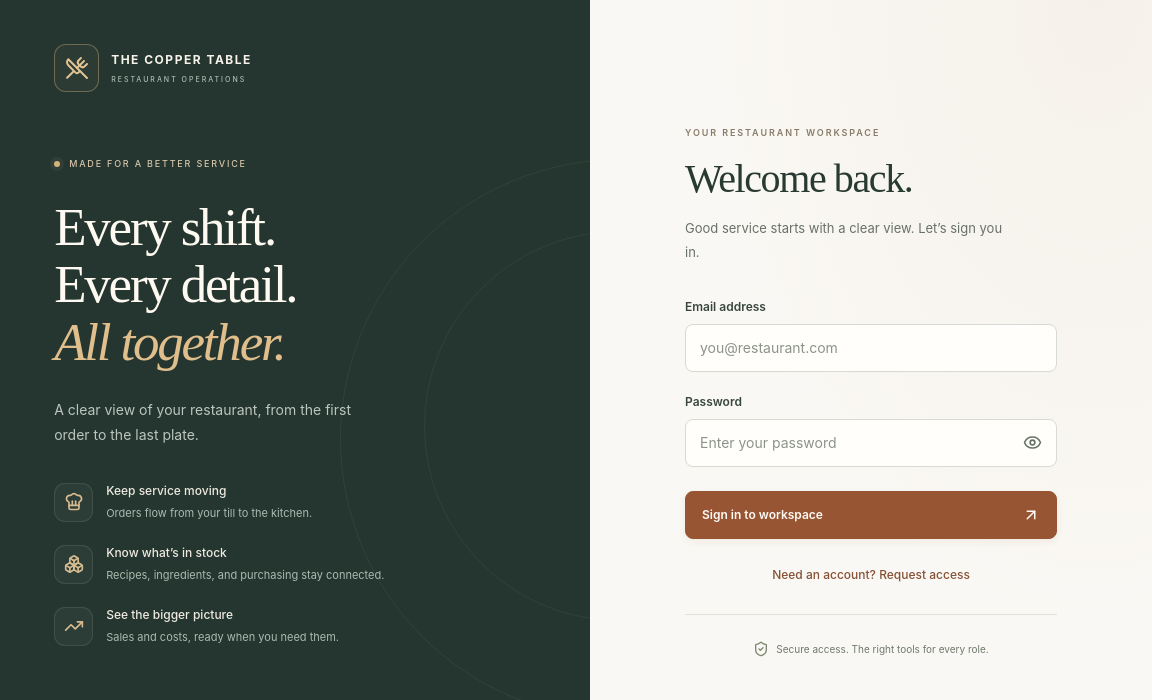
authenticated restaurant workspace › submits new accounts for owner approval without signing in automatically
Expected: the heading "Welcome back." is shown, [685, 156, 912, 201]
Click the button "Need an account? Request access": (871, 575) [767, 560, 975, 590]
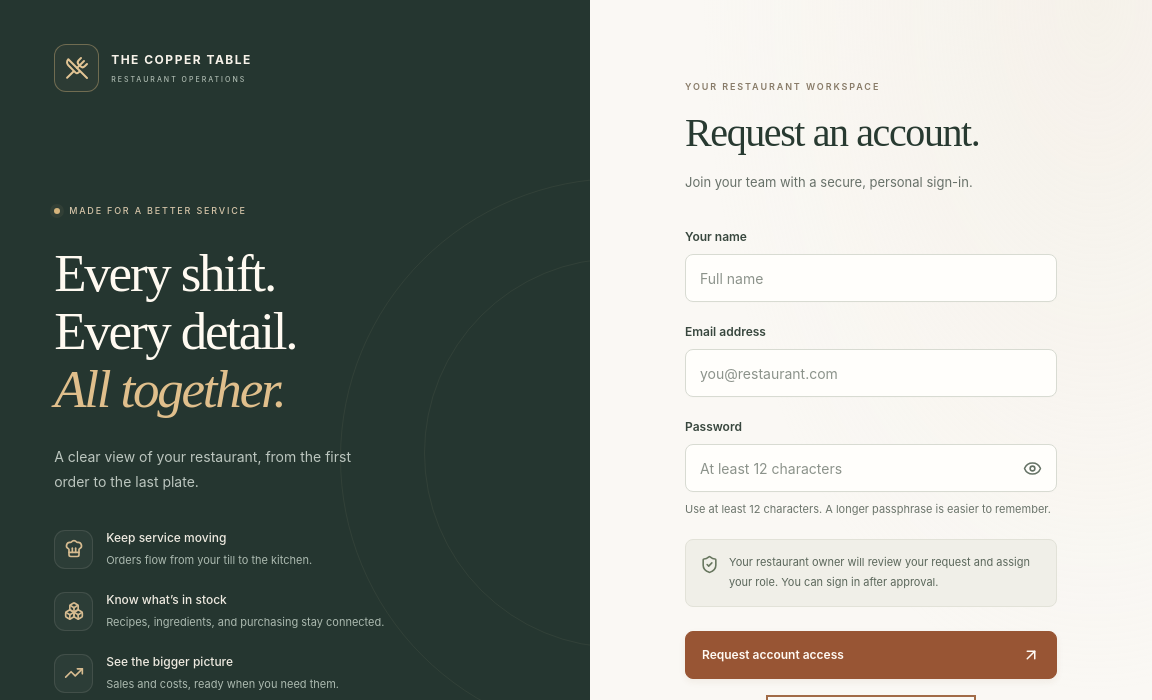
Result: the heading "Request an account." is shown at [685, 110, 979, 154]
In the field labelled "Your name": (871, 278) [685, 254, 1057, 302], type "New Teammate"
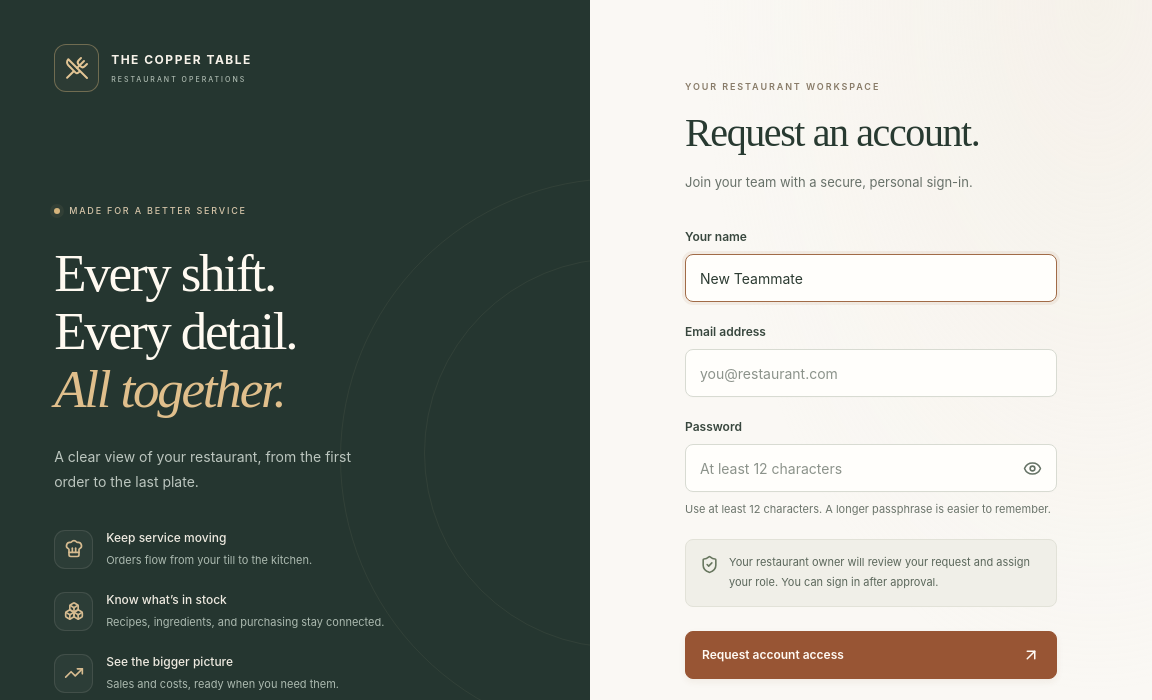
In the field labelled "Email address": (871, 373) [685, 349, 1057, 397], type " NEW@EXAMPLE.TEST "
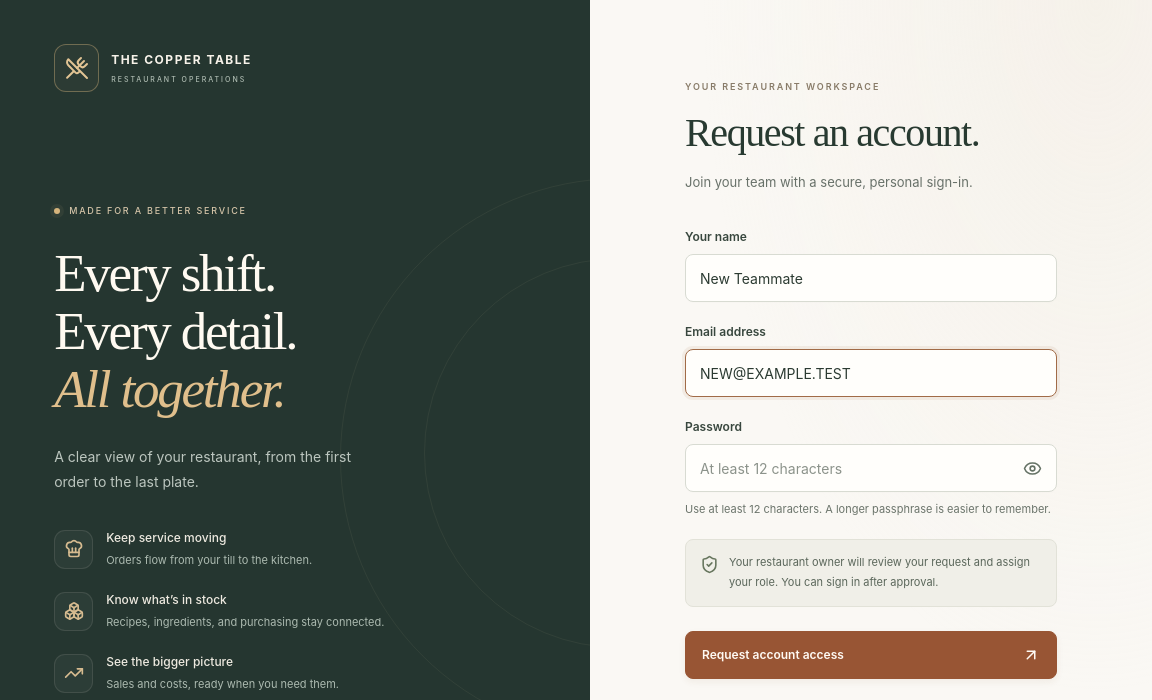
In the password field labelled "Password": (871, 468) [685, 444, 1057, 492], type "a-secure-password"
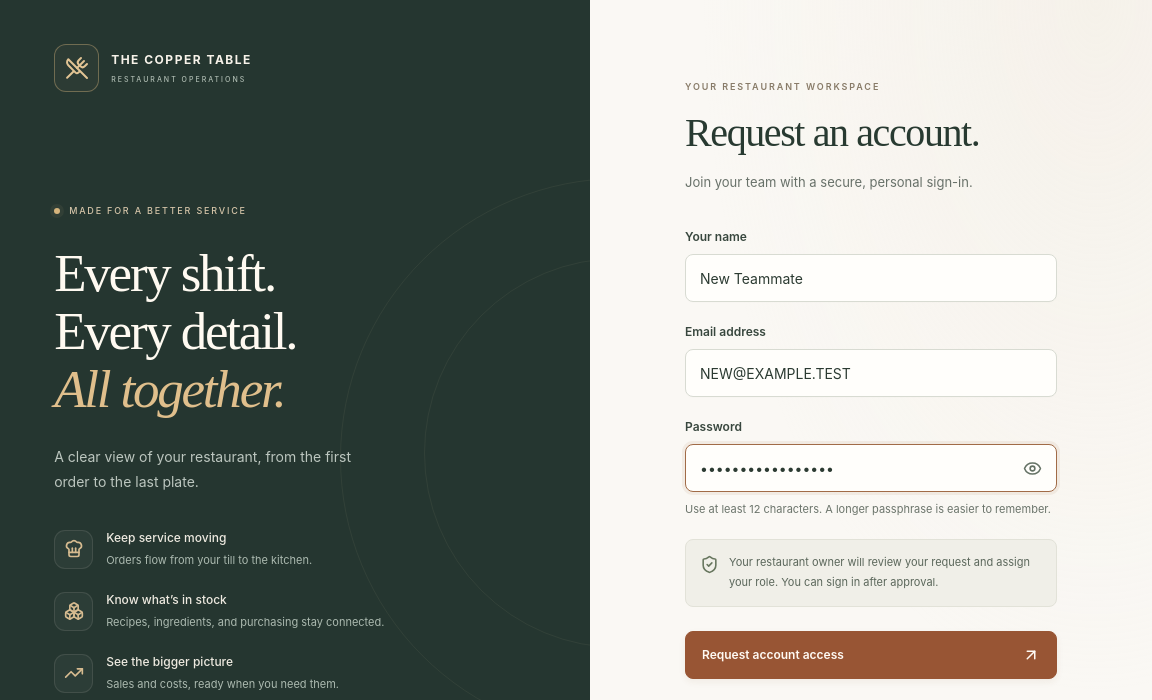
Click the button "Request account access": (773, 654) [685, 631, 1057, 679]
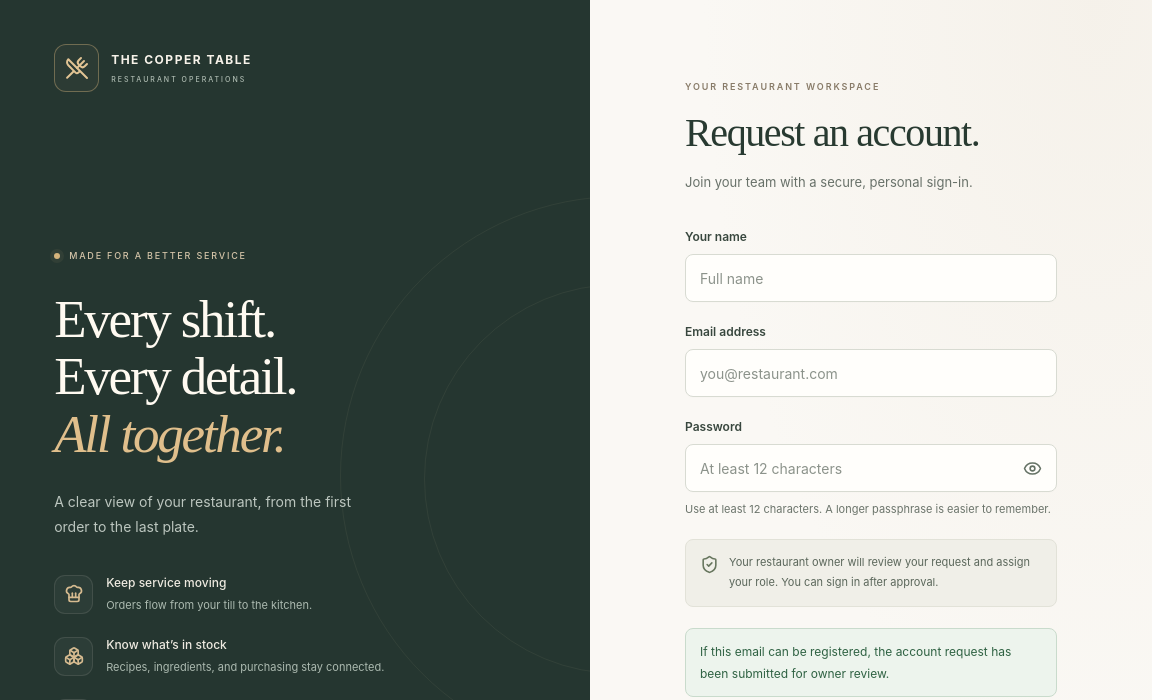
Result: the message shows "owner review" at [700, 644, 1011, 681]
